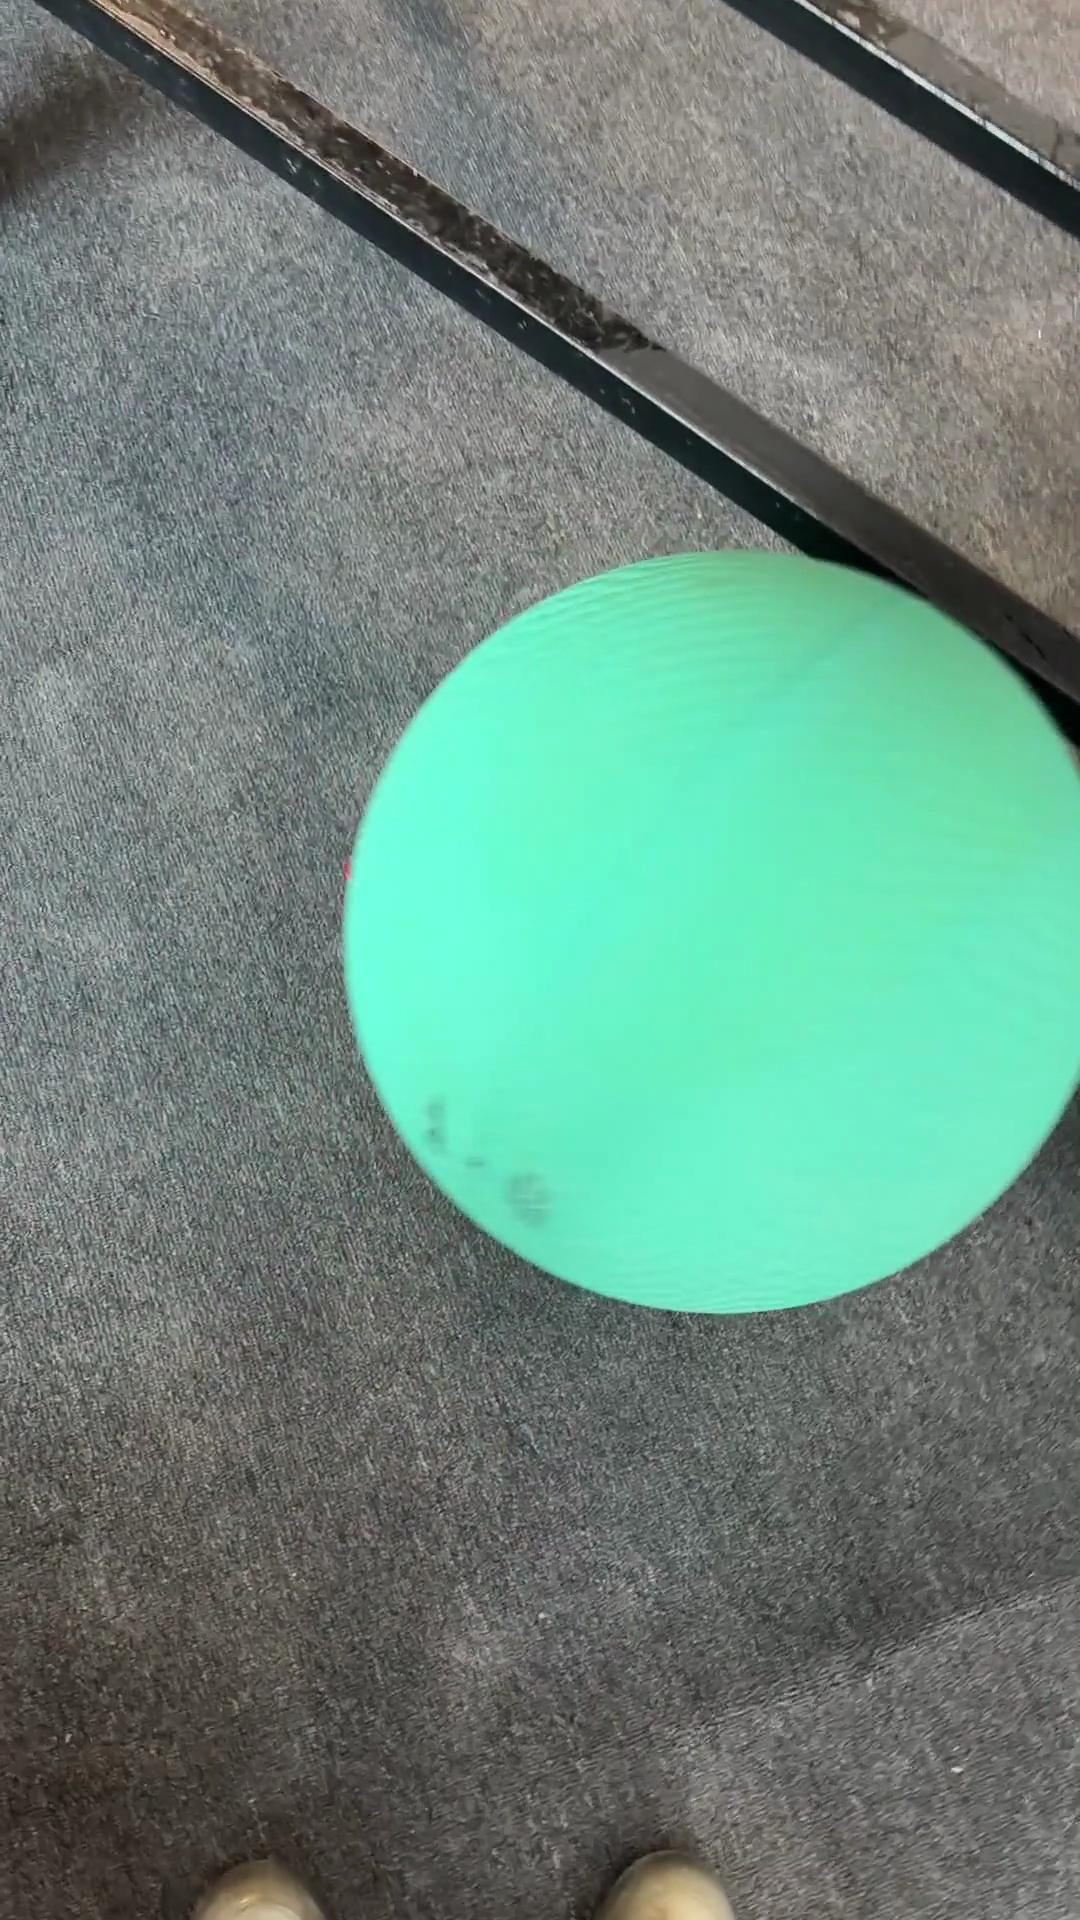ALGAE: (338, 545, 1077, 1317)
